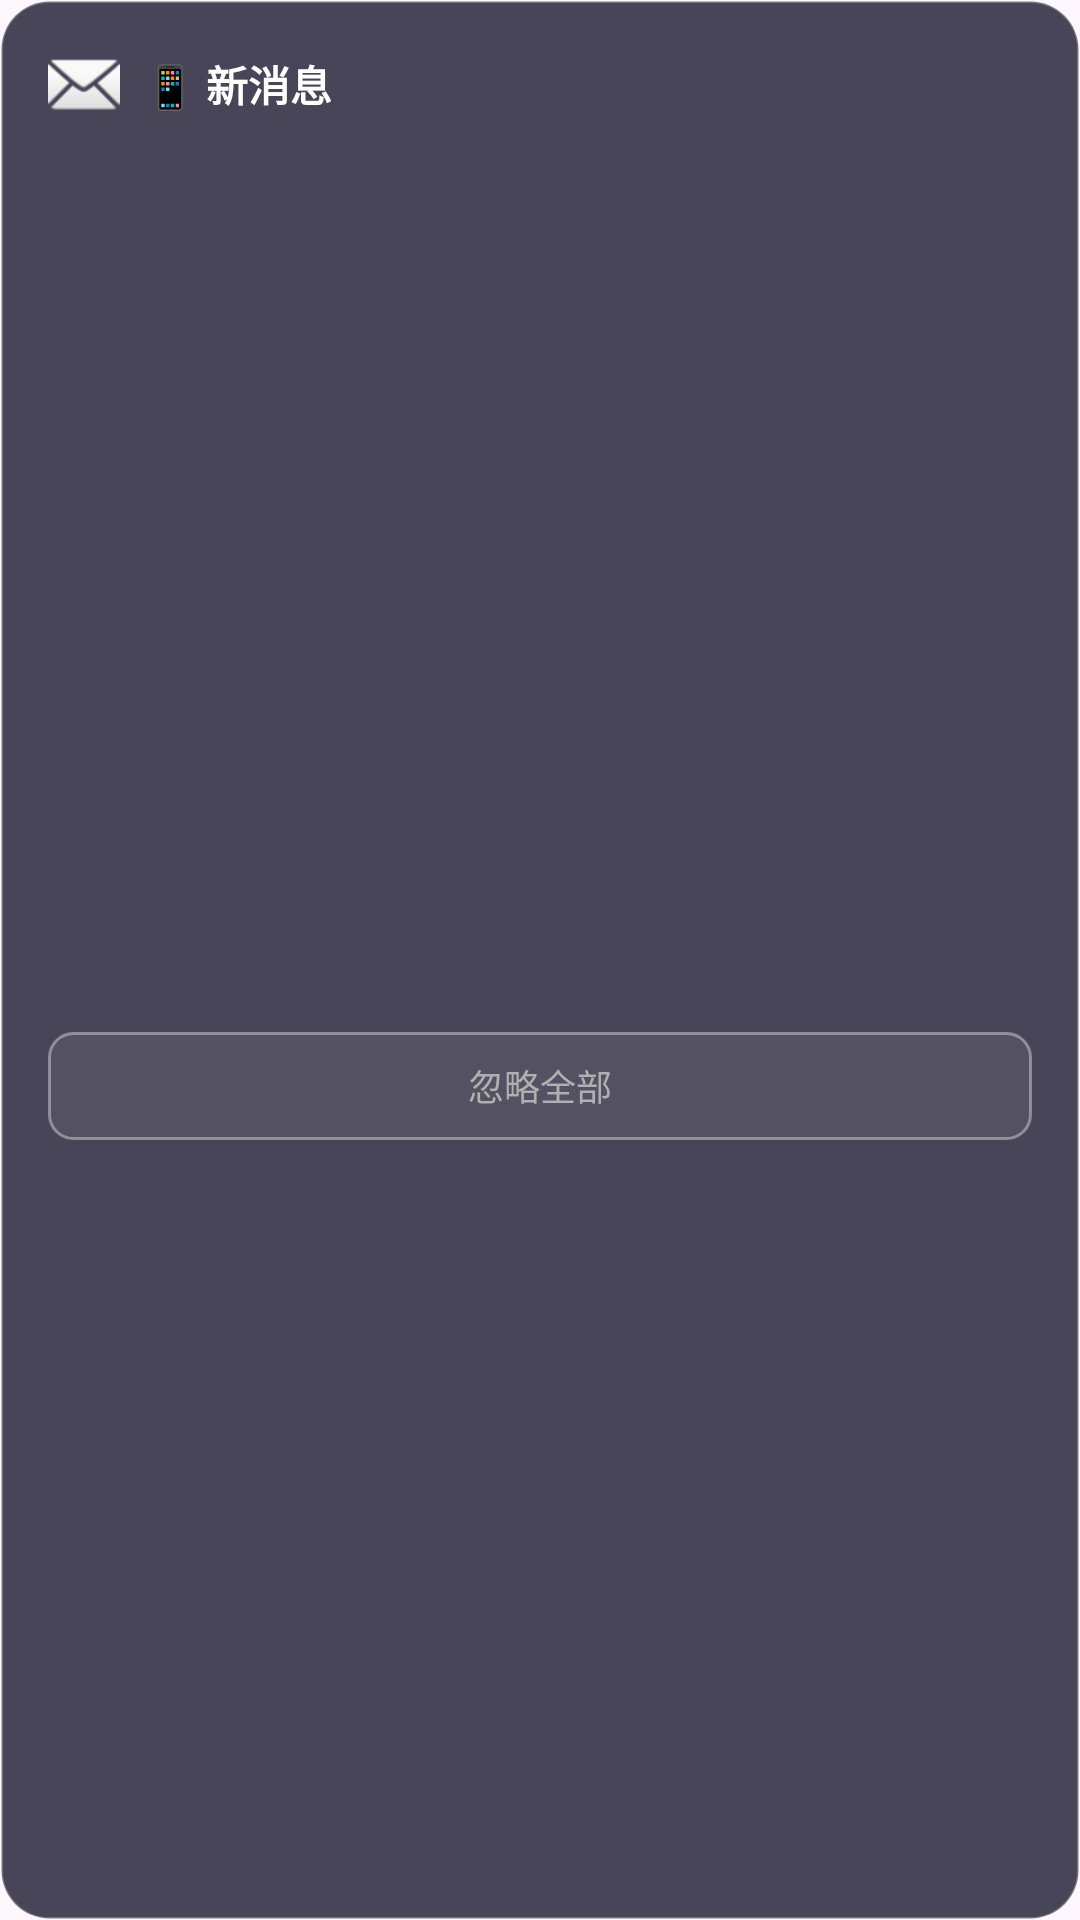

Named icons in this screenshot (1080x1920) and their centers, (x,y):
email: (84,84)
